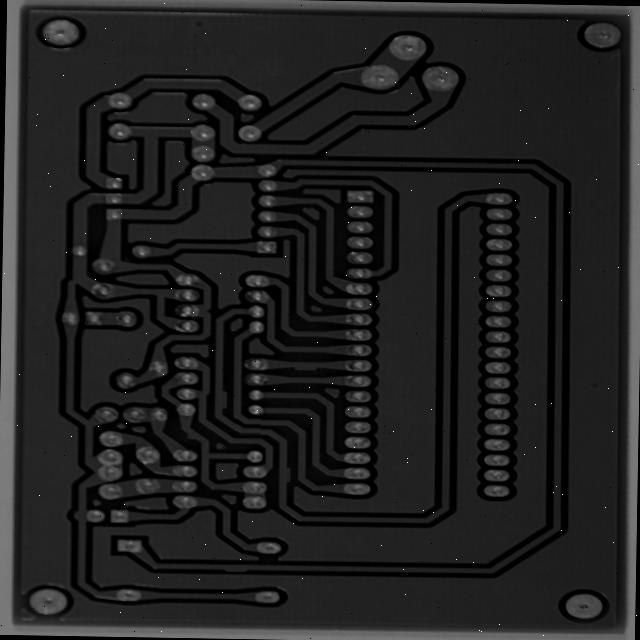spur: (235, 406, 259, 434), (242, 592, 283, 606), (325, 378, 360, 394), (199, 452, 226, 467), (310, 490, 329, 510)
